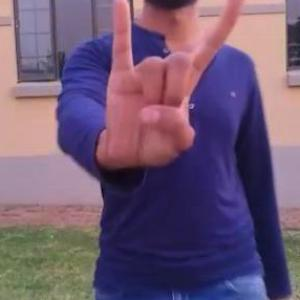takeoff-hand: (108, 0, 251, 174)
